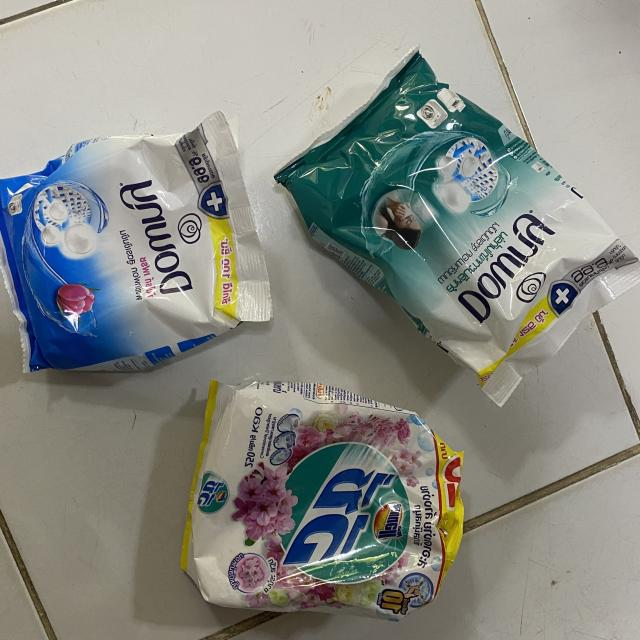plastik: (276, 49, 640, 405), (0, 113, 272, 372), (181, 380, 464, 621)
